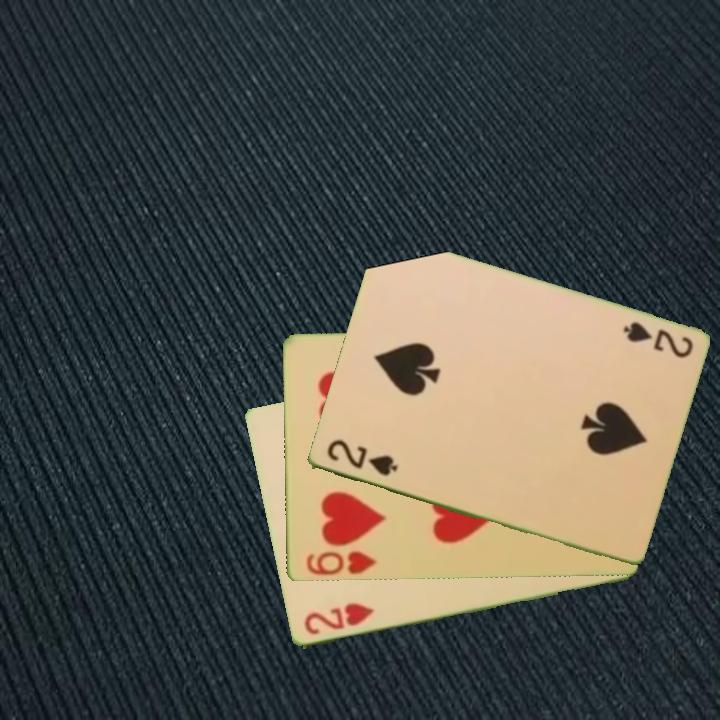2h: (300, 600, 377, 638)
2s: (323, 436, 400, 480), (619, 318, 696, 361)
6h: (302, 548, 379, 578)
